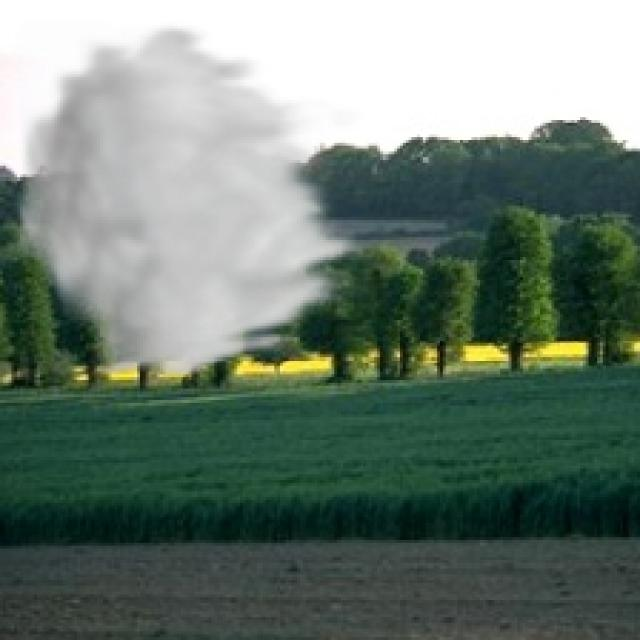smoke: (9, 20, 372, 383)
